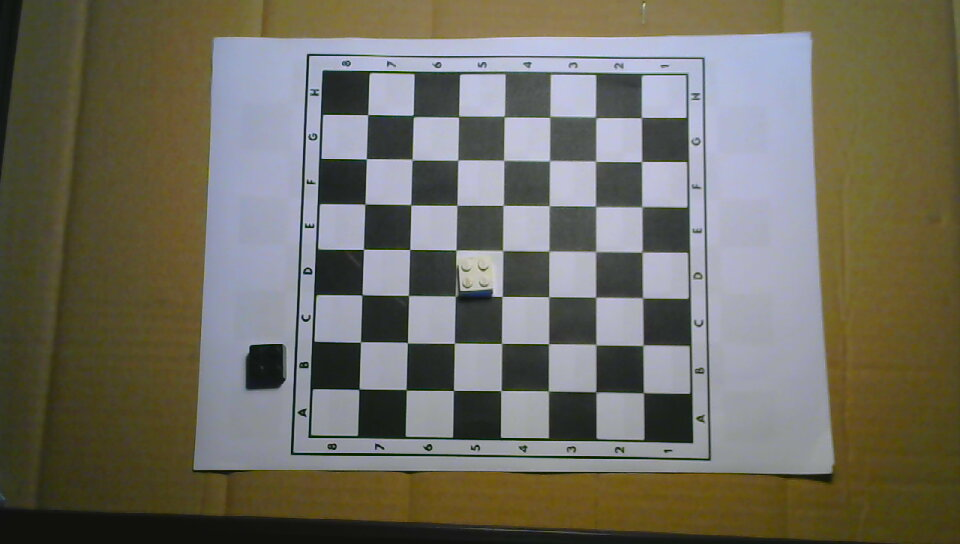bp: (249, 343, 286, 384)
wp: (456, 258, 496, 295)
